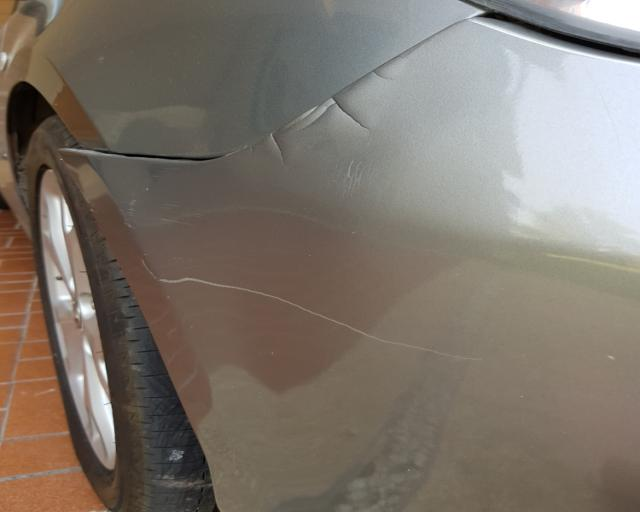scratch: (140, 256, 483, 363)
